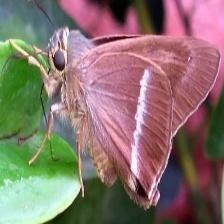butterfly: (39, 29, 221, 210)
